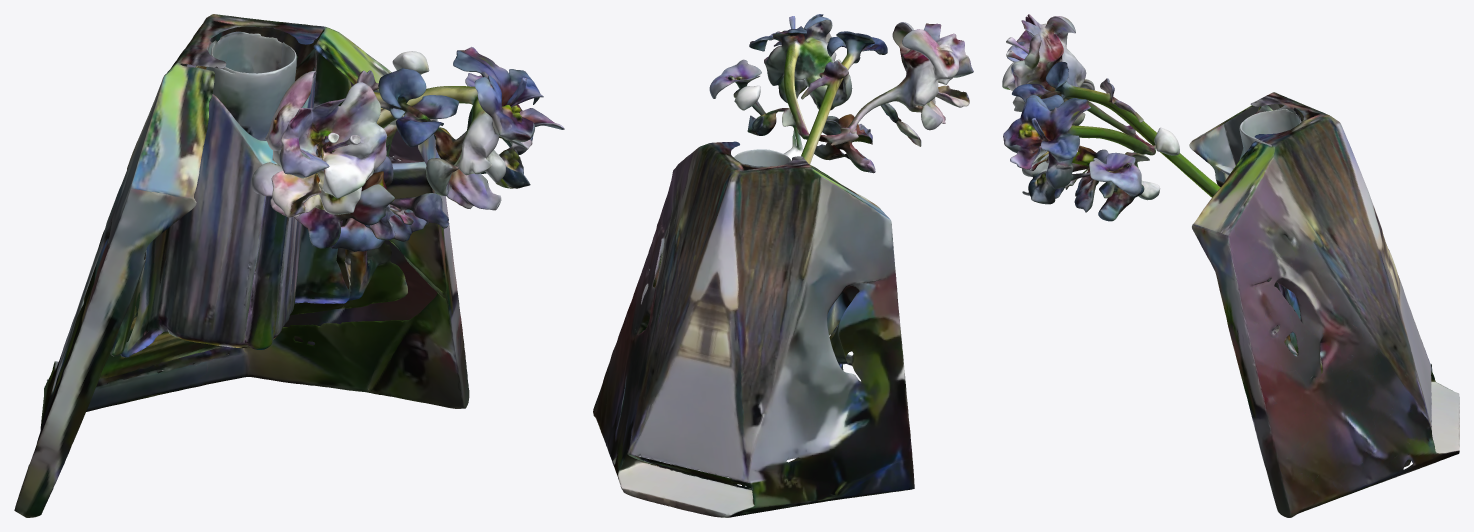
The model's file is crystallarge.glb.
3 renders of one model, left to right at view 1: azimuth 30°, elevation 25°; view 2: azimuth 150°, elevation 25°; view 3: azimuth 270°, elevation 25°, orthographic. The views are drawn at different scales.
Parts seen in each view (by area): view 1: geometry_0; view 2: geometry_0; view 3: geometry_0.
Part boxes in pixels (x1,y1,x2,y2): geometry_0: (14,14,564,517); geometry_0: (593,14,973,517); geometry_0: (1002,14,1459,517).
Bounding box in the file's own units: 0.8653 × 0.9358 × 0.9977.
1 material, 1 textured.
